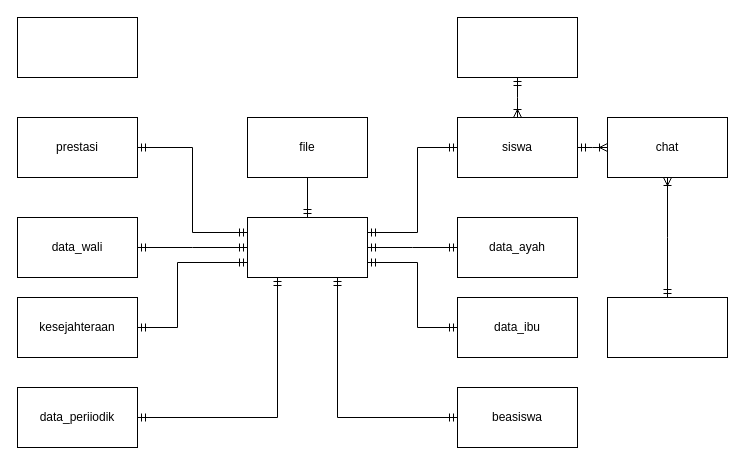
The diagram is 745 pixels wide and 465 high, and some of its shapes have lost their labels. The shapes that lost their labels are listed below. From the top down, each one's centre as x and y in pixels, then its label:
point 77,47: pengumuman
point 517,47: sekolah
point 307,247: data_pribadi
point 667,327: admin
